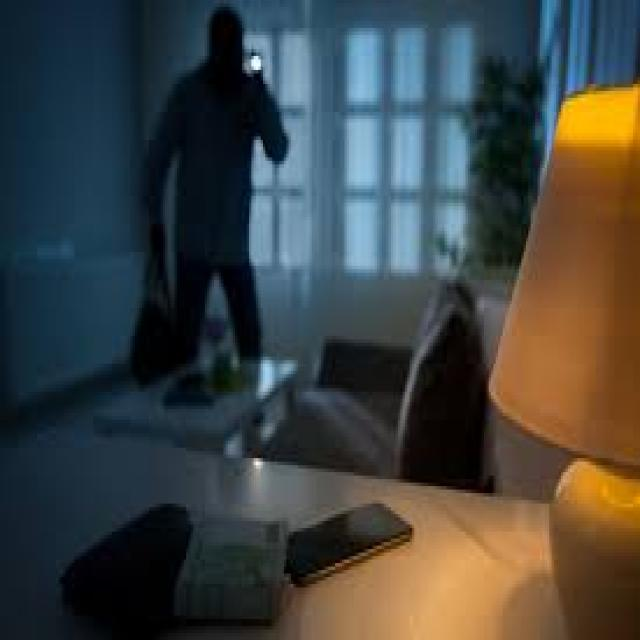intrusion detected: (129, 0, 287, 361)
